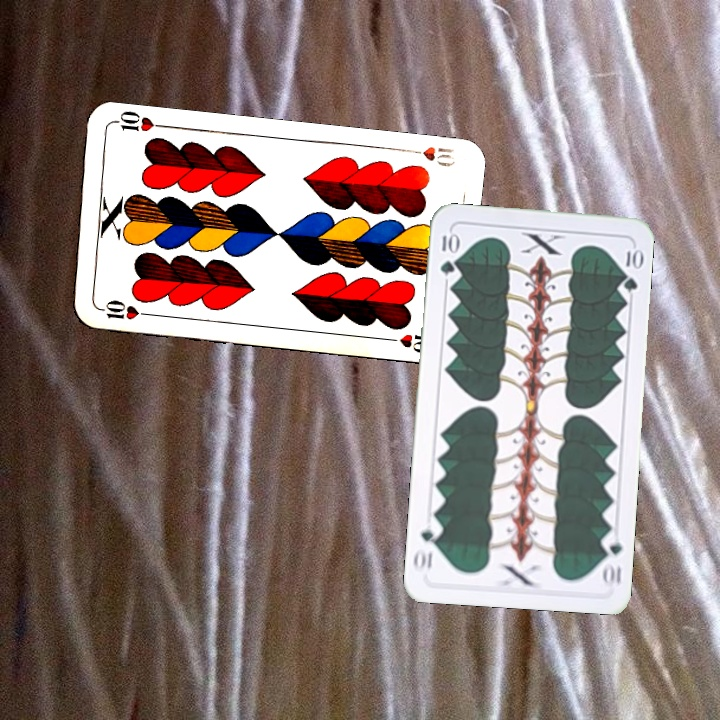G10: (597, 529, 625, 589), (436, 228, 460, 277)
H10: (401, 142, 458, 170), (93, 296, 152, 323)
